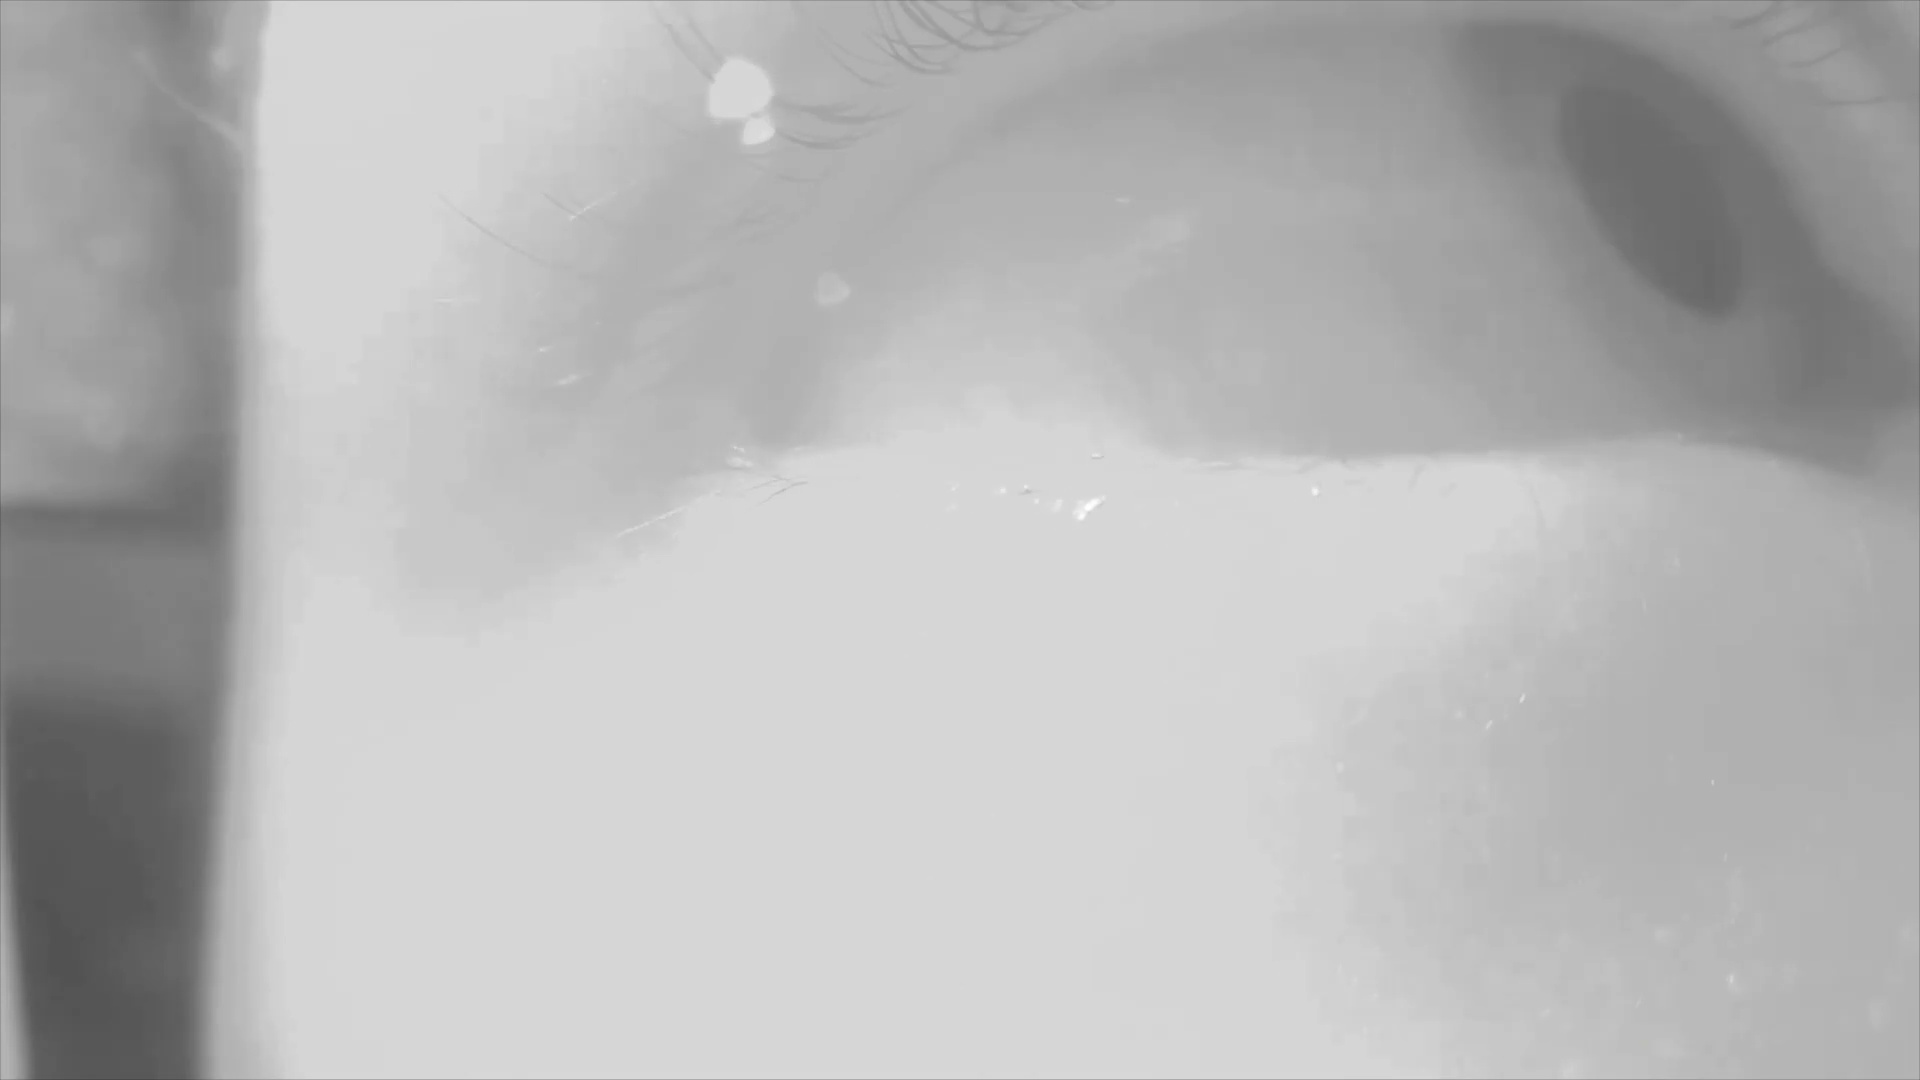pupil: (1560, 86, 1747, 313)
